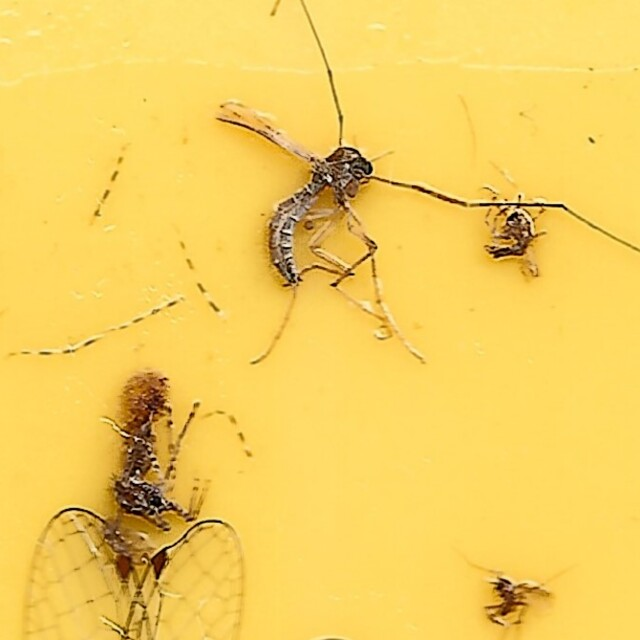Nematocera: (214, 105, 412, 362), (96, 378, 249, 535), (480, 198, 544, 275)
